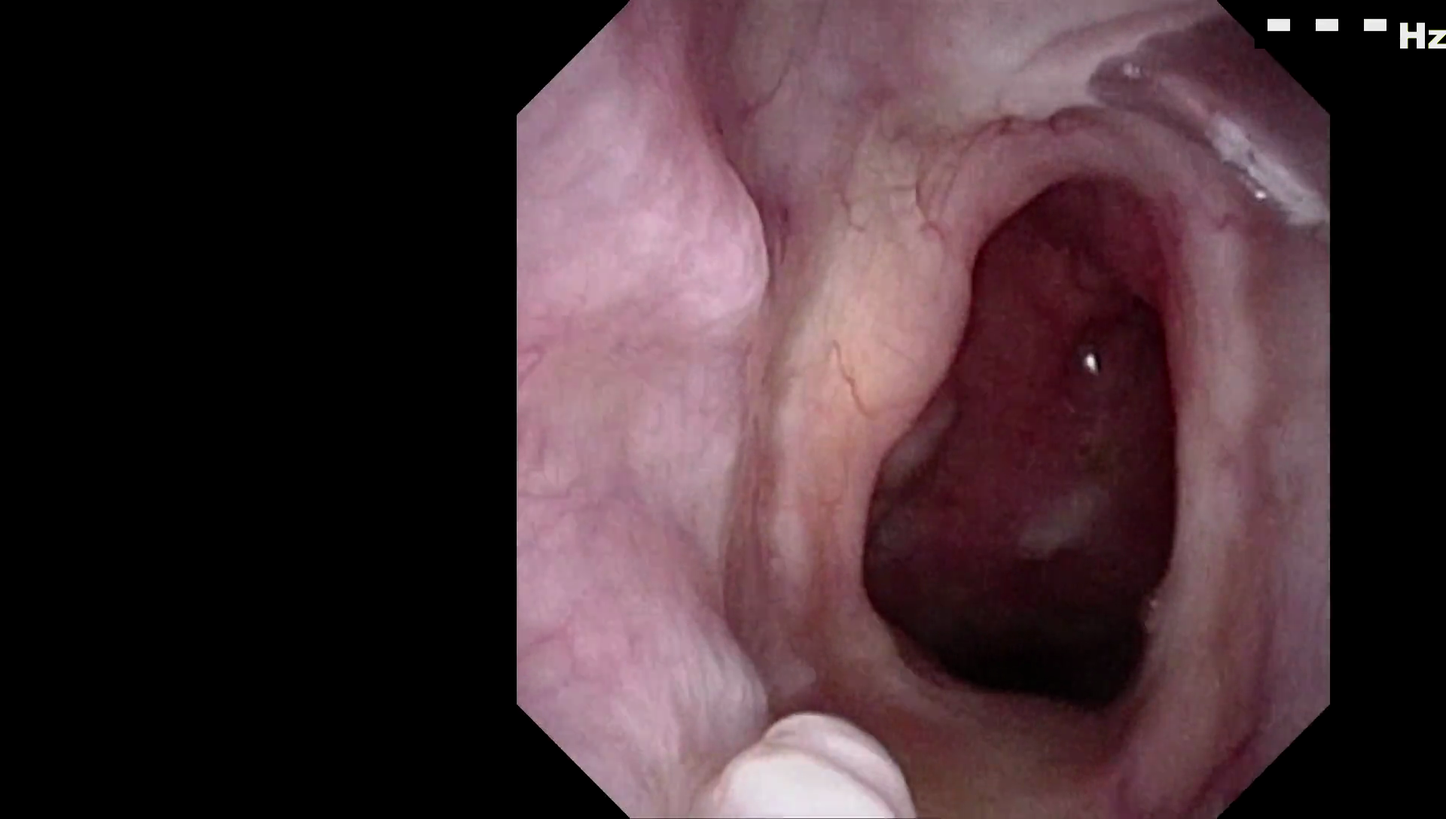next: (816, 485, 1184, 745)
